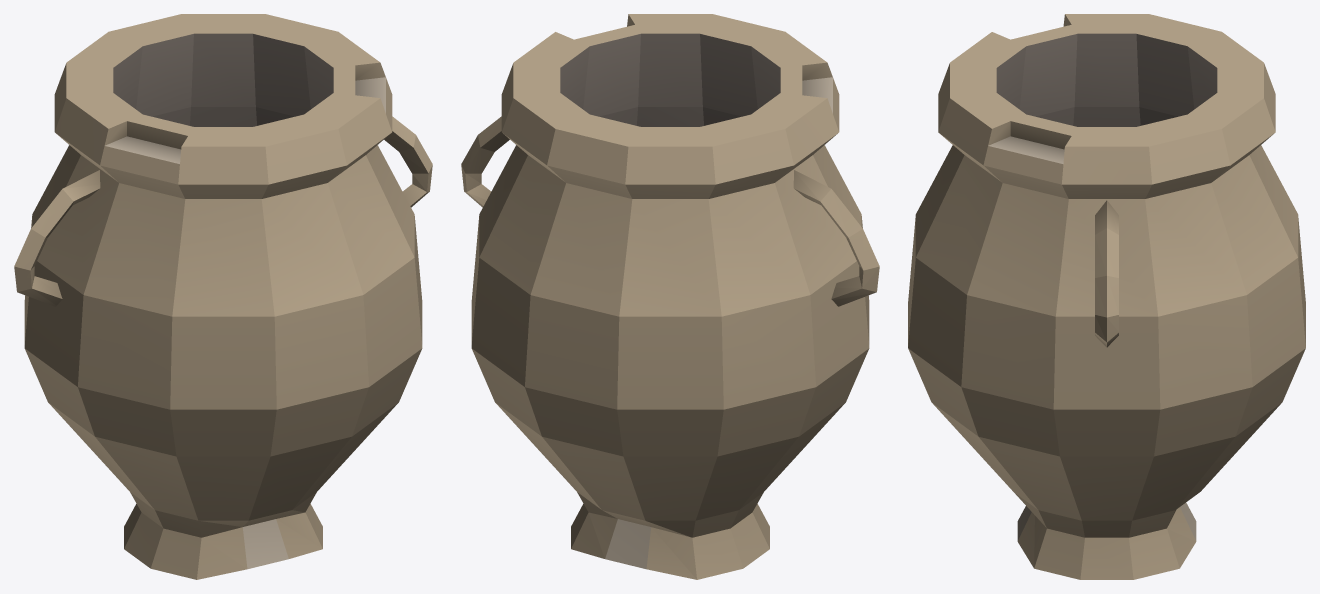
The model's file is pot.glb.
The picture shows the model from 3 angles, left to right: view 1: azimuth 30°, elevation 25°; view 2: azimuth 150°, elevation 25°; view 3: azimuth 270°, elevation 25°; orthographic projection.
Parts seen in each view (by area): view 1: pot; view 2: pot; view 3: pot.
Boxes of the visible parts, box(x1,y1,x2,y2) form: pot: box(14, 14, 432, 579); pot: box(461, 14, 879, 579); pot: box(908, 14, 1305, 579).
Size of the model in its own units: 0.9096 by 0.95 by 0.7488.
